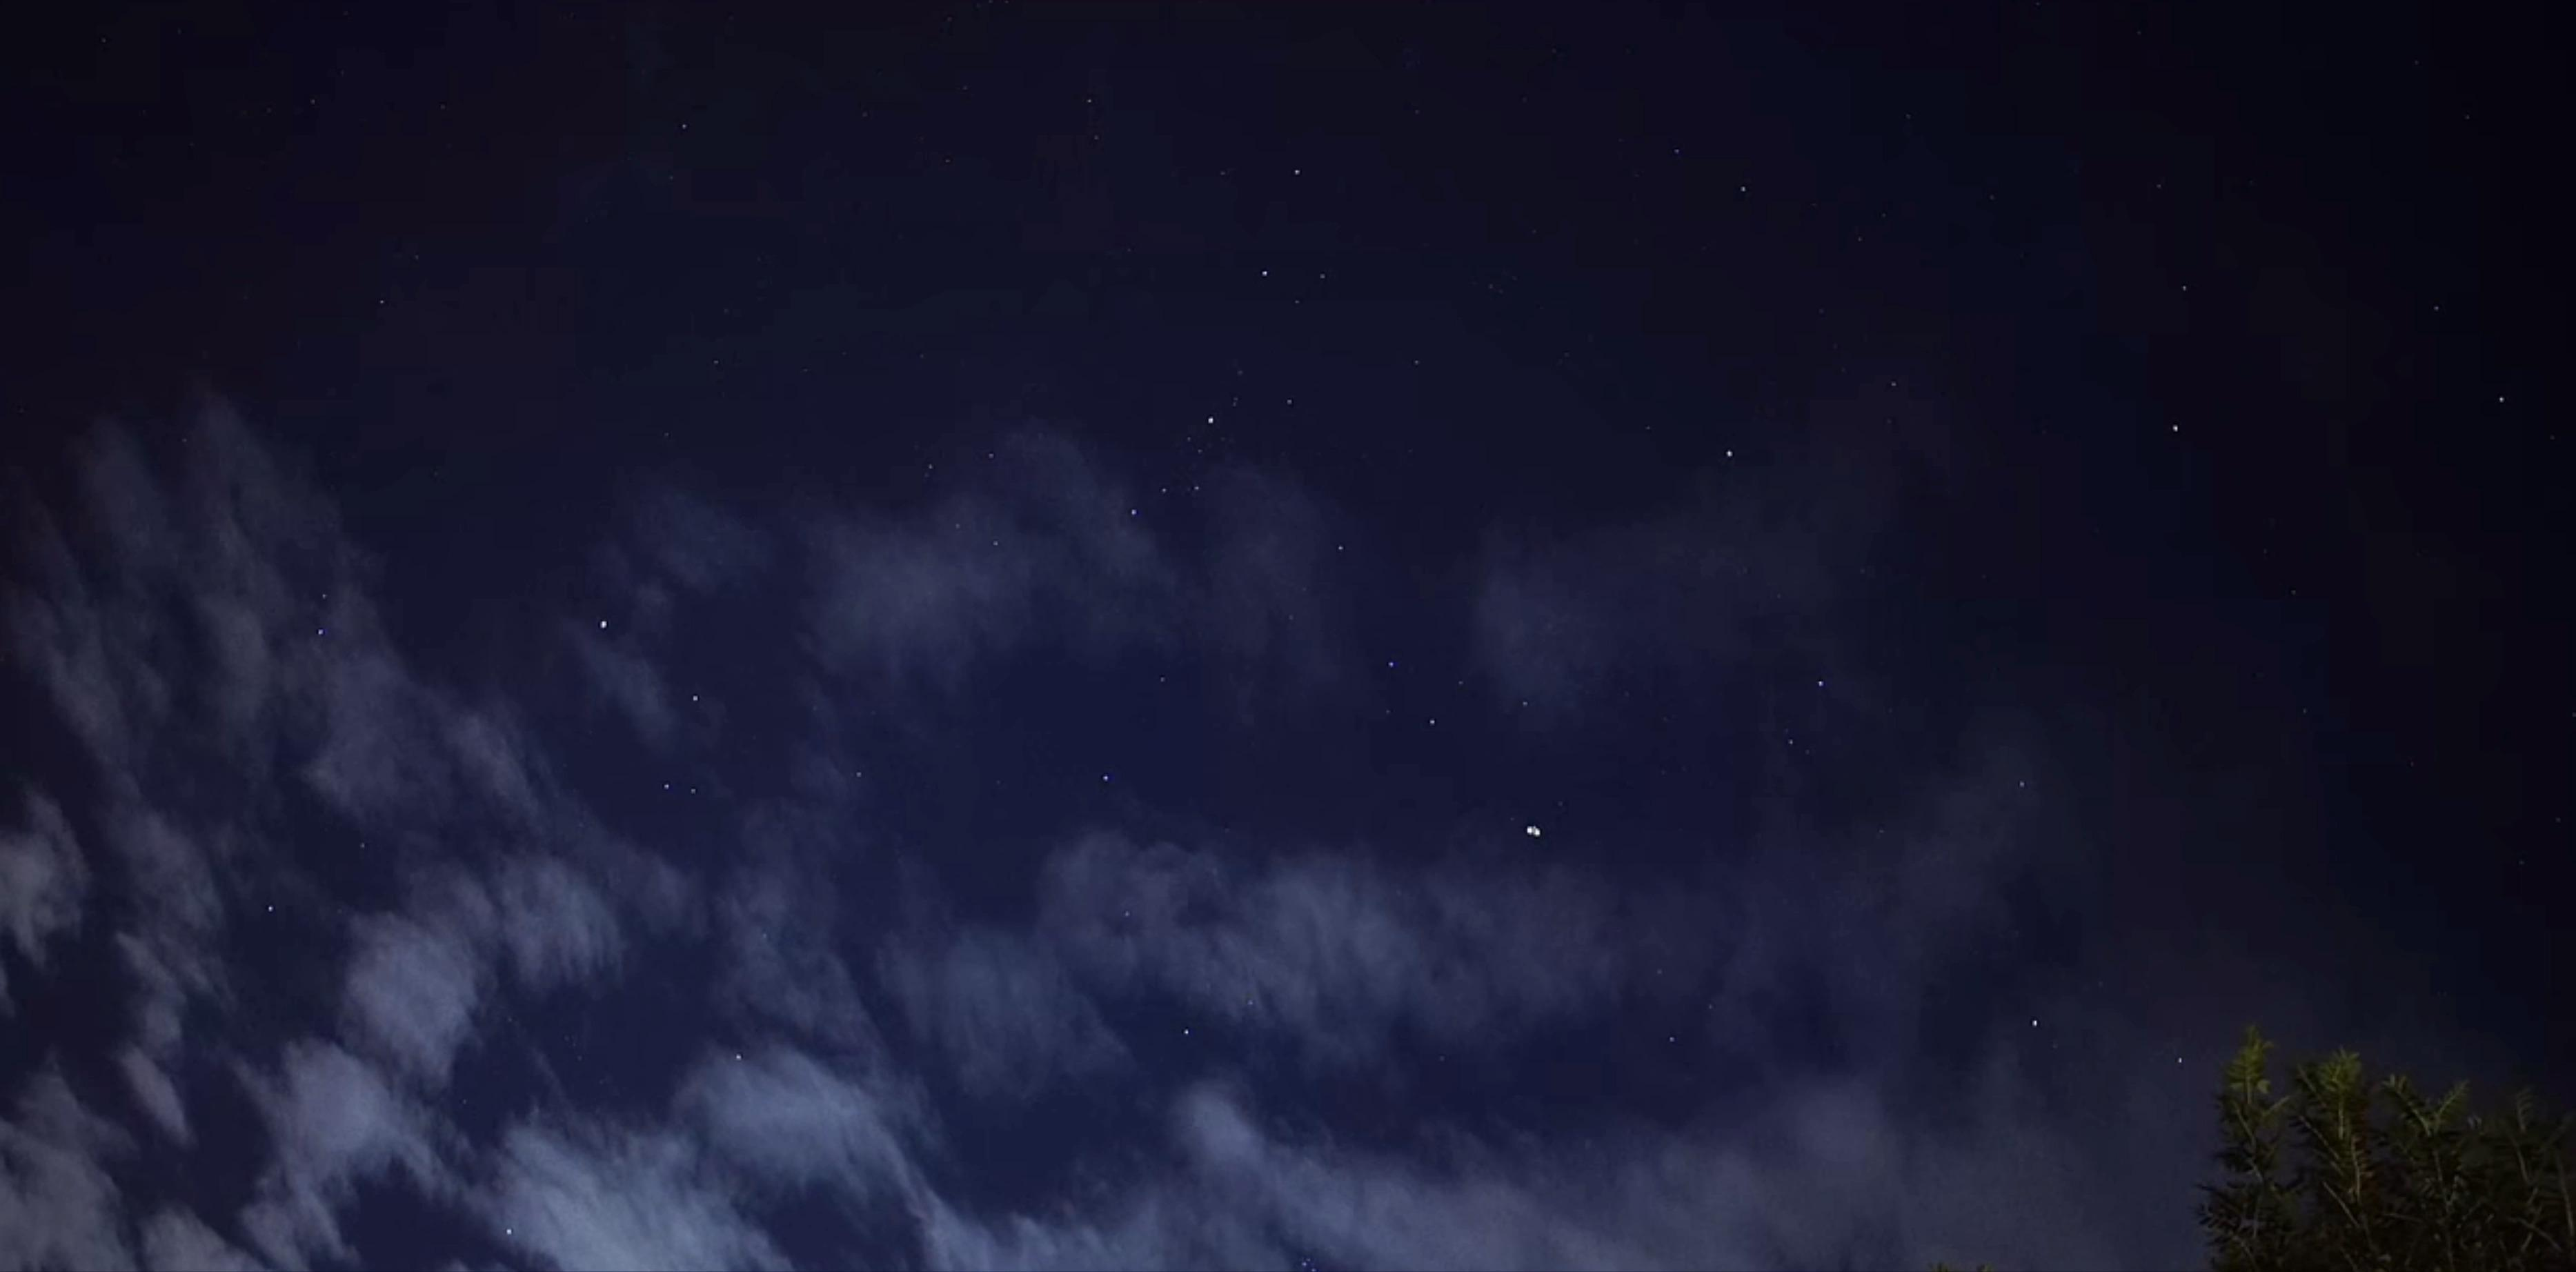Plane: (1516, 815, 1556, 850)
